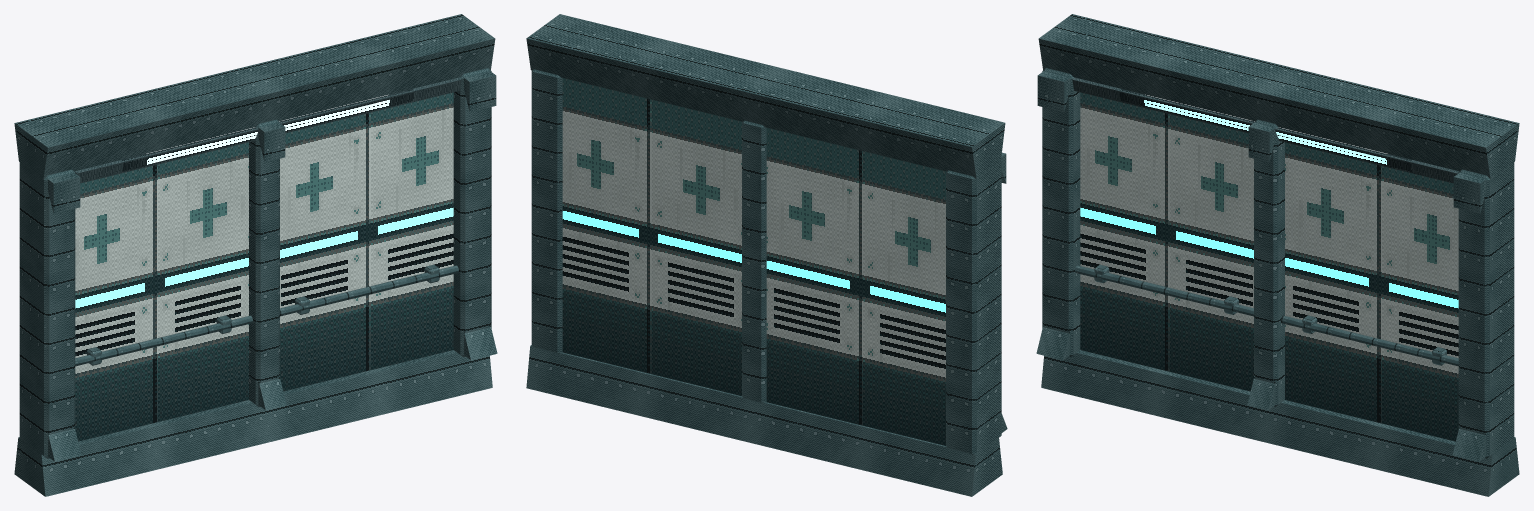
The model's file is wall_segment.glb.
3 renders of one model, left to right at view 1: azimuth 30°, elevation 25°; view 2: azimuth 150°, elevation 25°; view 3: azimuth 330°, elevation 25°, orthographic.
Visible parts, largest first — view 1: wall_segment__hosp_metal_trim, wall_segment__hosp_wall_main, wall_segment__hosp_ceiling_panel; view 2: wall_segment__hosp_wall_main, wall_segment__hosp_metal_trim; view 3: wall_segment__hosp_metal_trim, wall_segment__hosp_wall_main, wall_segment__hosp_ceiling_panel.
Part boxes in pixels (bbox=[...]): wall_segment__hosp_metal_trim: bbox=[14, 14, 497, 496]; wall_segment__hosp_wall_main: bbox=[75, 92, 453, 441]; wall_segment__hosp_ceiling_panel: bbox=[75, 77, 461, 183]; wall_segment__hosp_wall_main: bbox=[562, 78, 945, 445]; wall_segment__hosp_metal_trim: bbox=[526, 14, 1007, 496]; wall_segment__hosp_metal_trim: bbox=[1036, 14, 1519, 496]; wall_segment__hosp_wall_main: bbox=[1080, 92, 1458, 441]; wall_segment__hosp_ceiling_panel: bbox=[1072, 77, 1458, 183].
Size of the model in its own units: 4 by 3 by 0.59.
3 materials, 3 textured.
